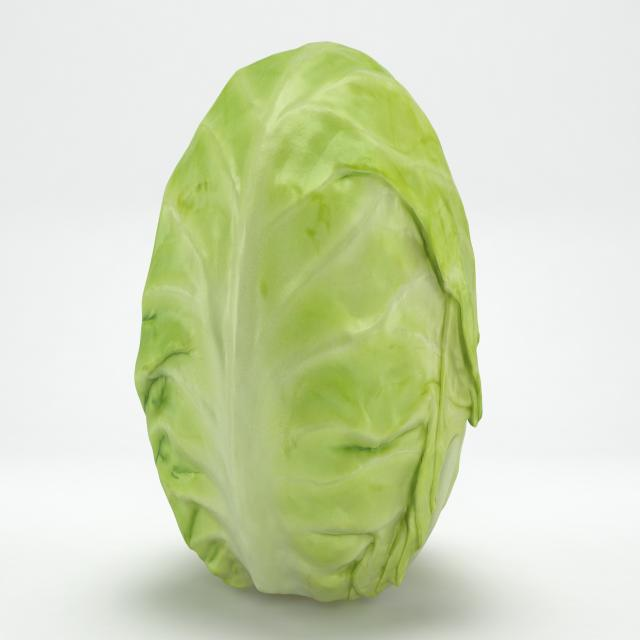cabbage: (135, 36, 484, 603)
